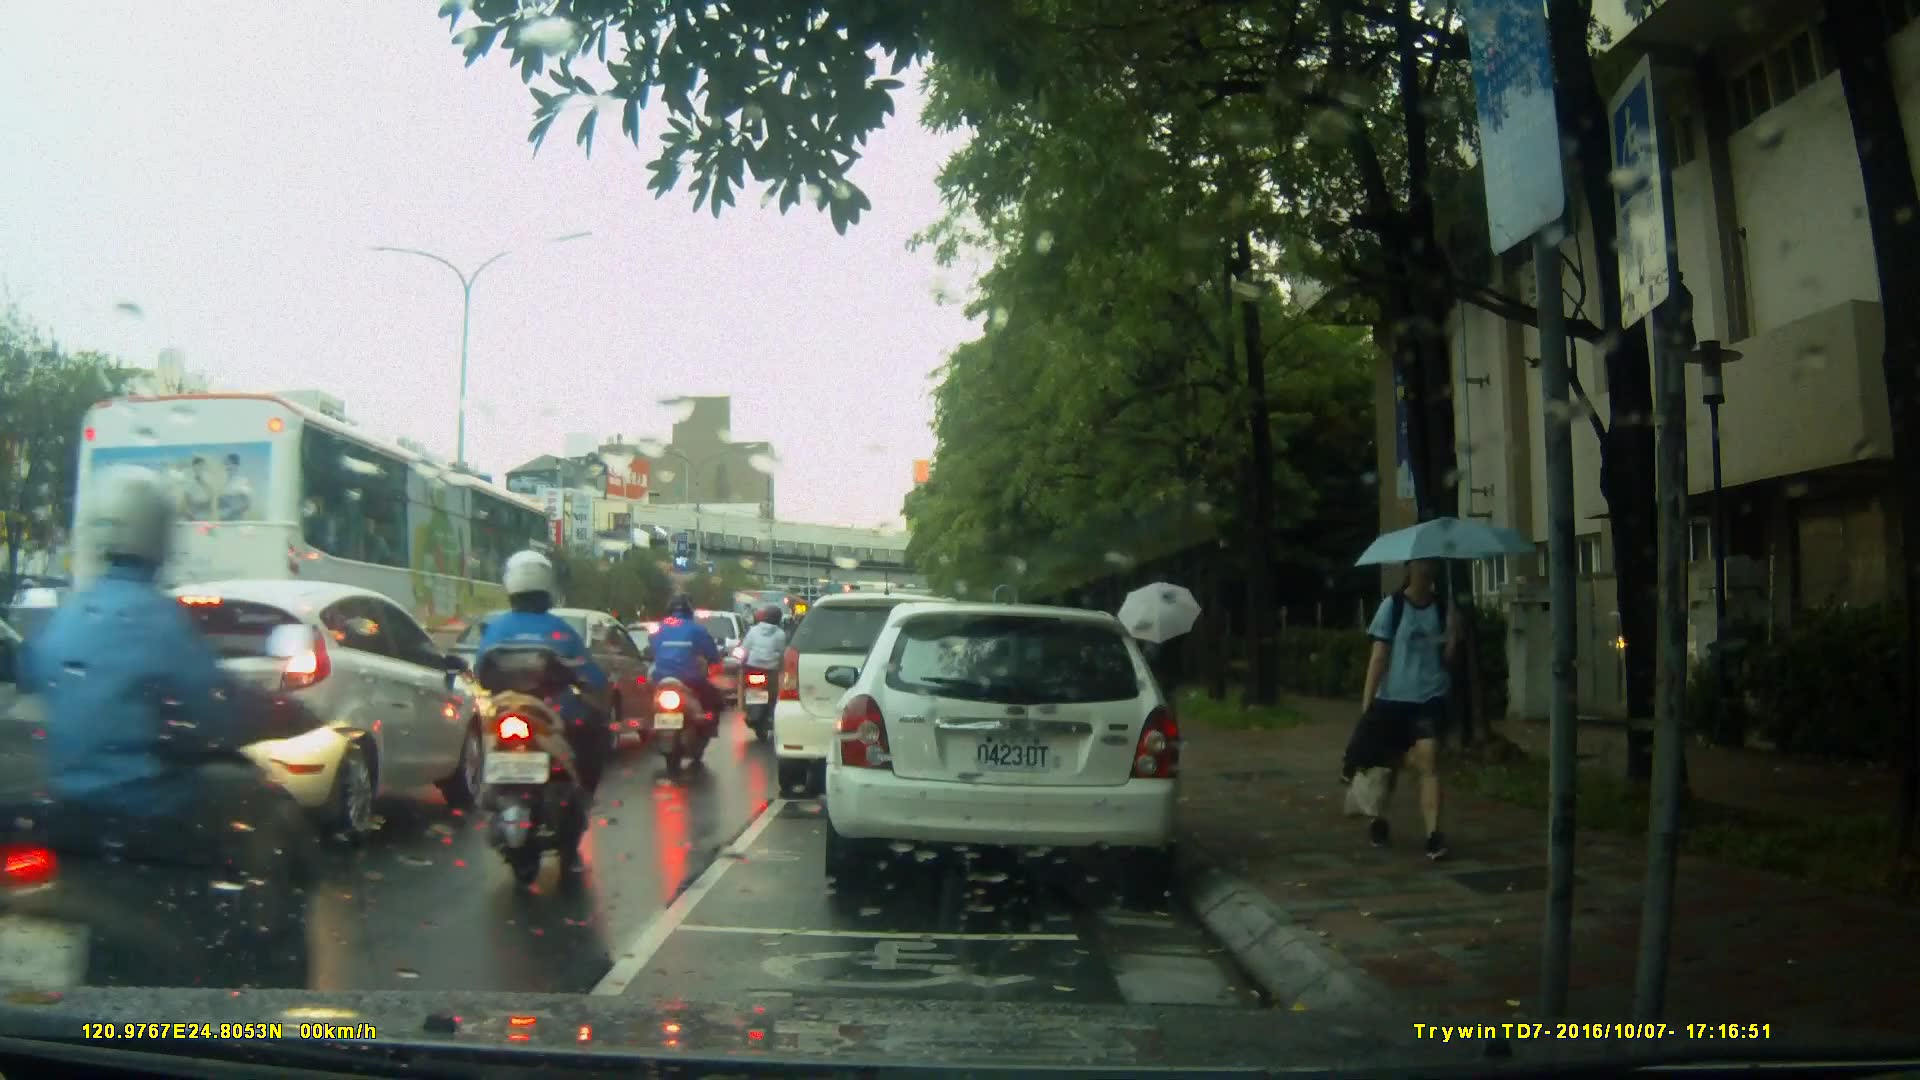pedestrian: (1343, 533, 1494, 862)
rider: (8, 466, 301, 1079), (472, 551, 616, 876), (645, 596, 726, 773), (745, 598, 804, 747)
vehicle: (69, 386, 561, 738), (835, 594, 1194, 898), (96, 576, 486, 846), (776, 590, 1026, 784), (420, 605, 664, 751), (1, 586, 155, 697), (610, 619, 722, 717)
